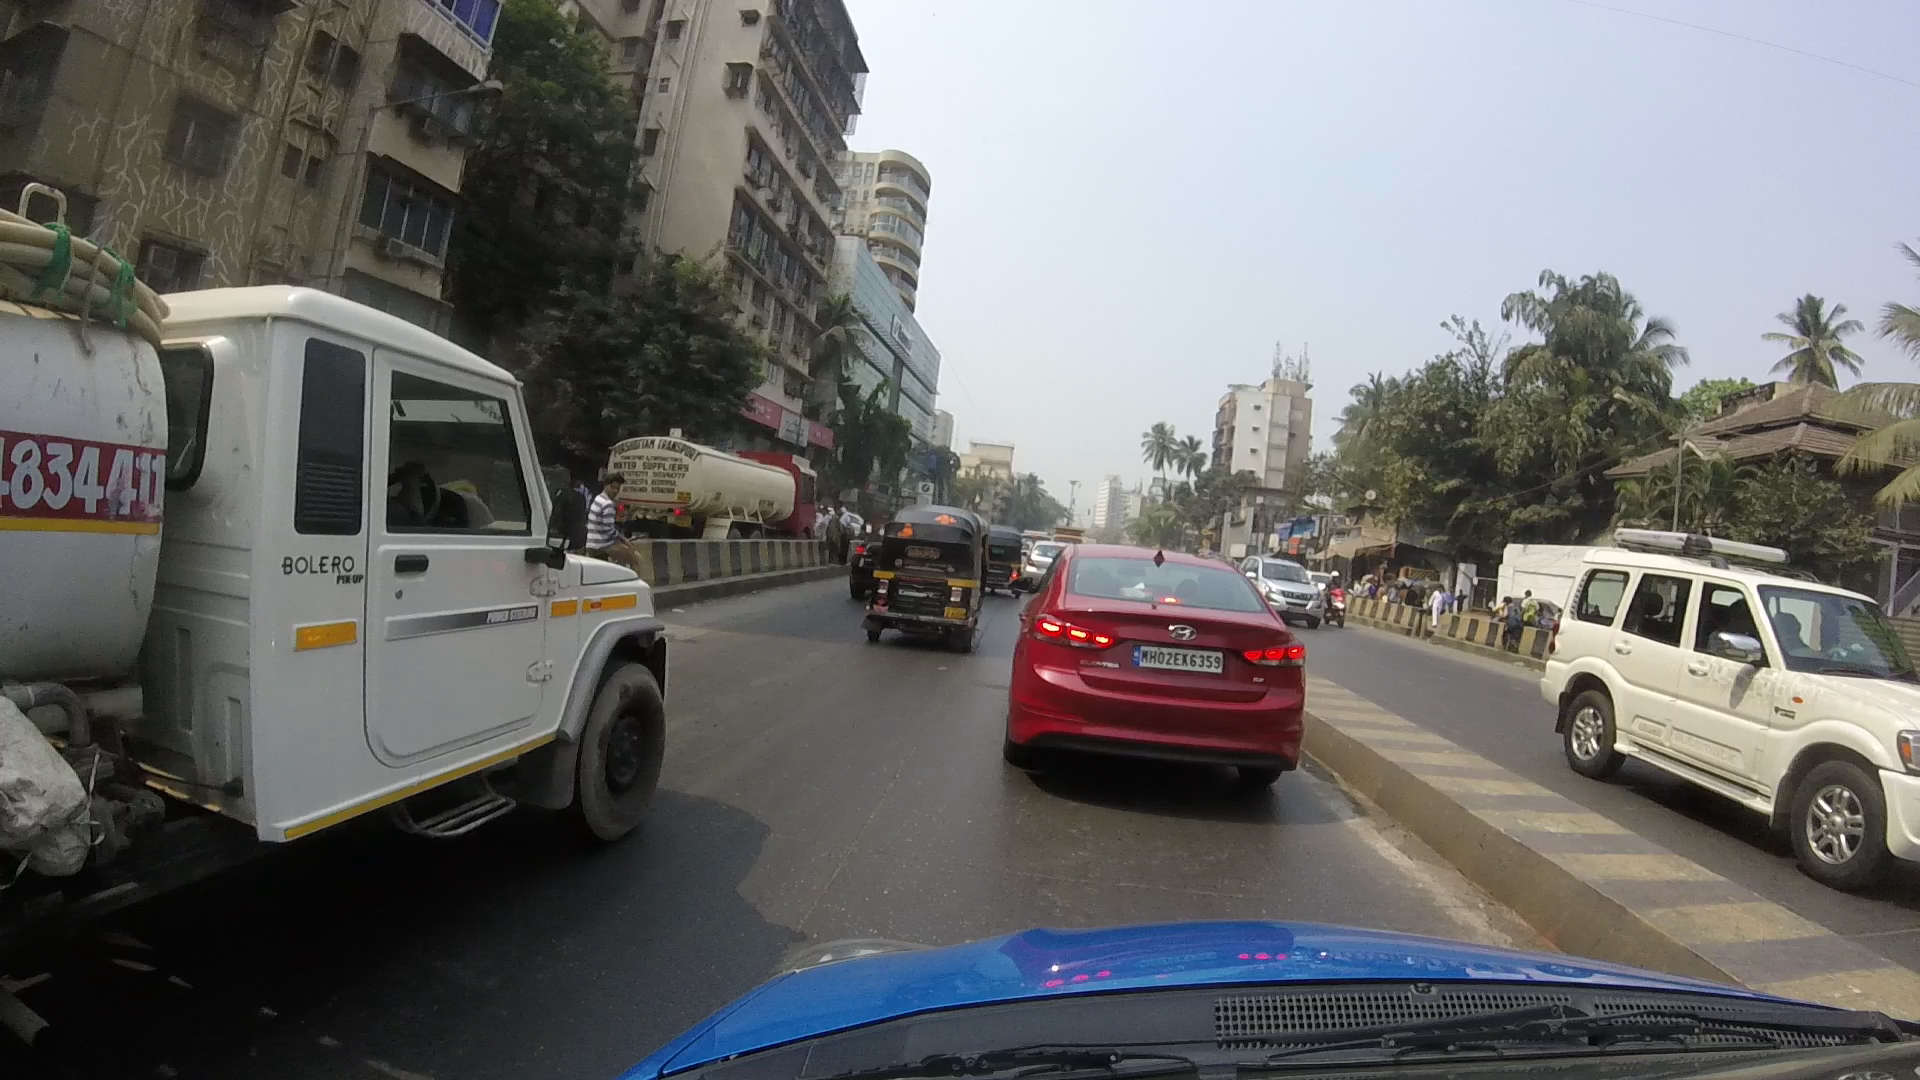car: (1545, 527, 1920, 869), (1011, 524, 1294, 774), (1237, 549, 1305, 611)
rickshaw: (858, 506, 990, 640)
truck: (11, 200, 678, 936)
